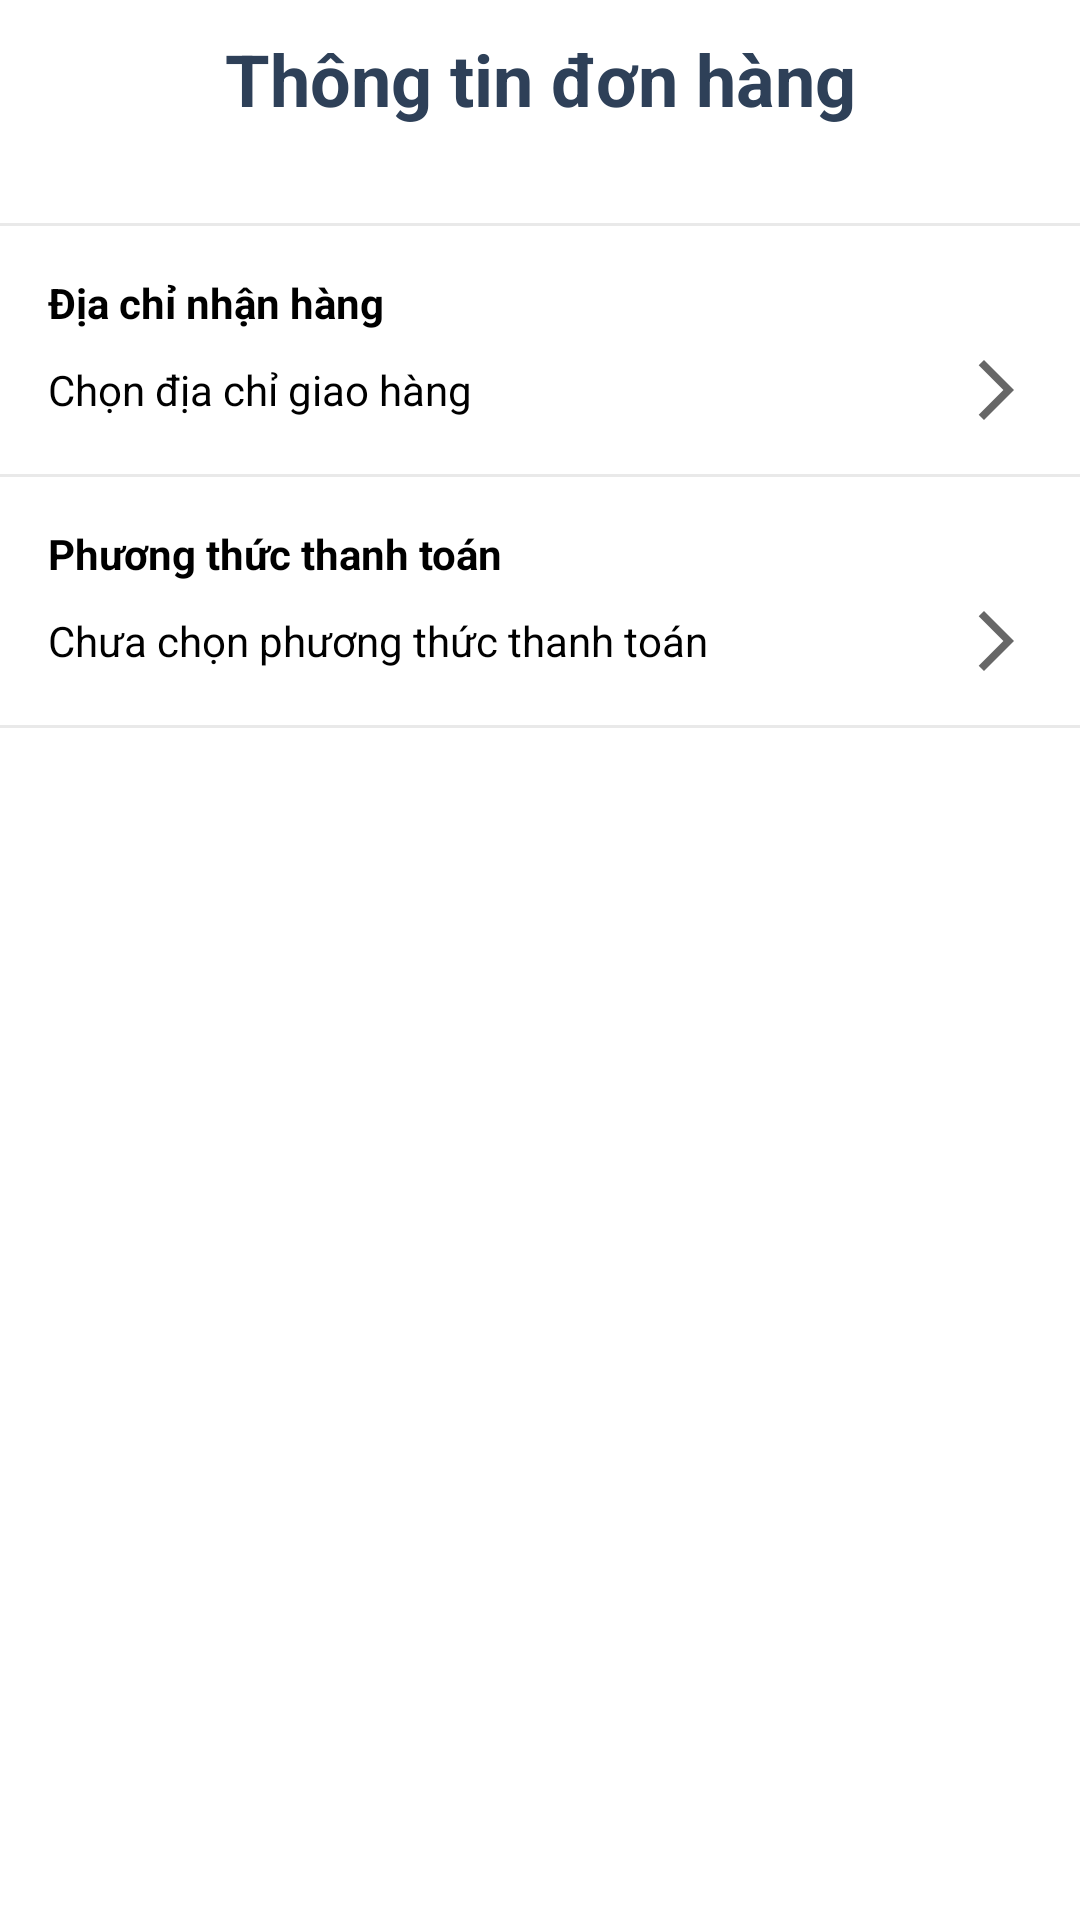

Where to tap for icons on this 1080 x 1920 app screen, as (x=x, y=y):
arrow forward: (x=996, y=390), (x=996, y=641)
